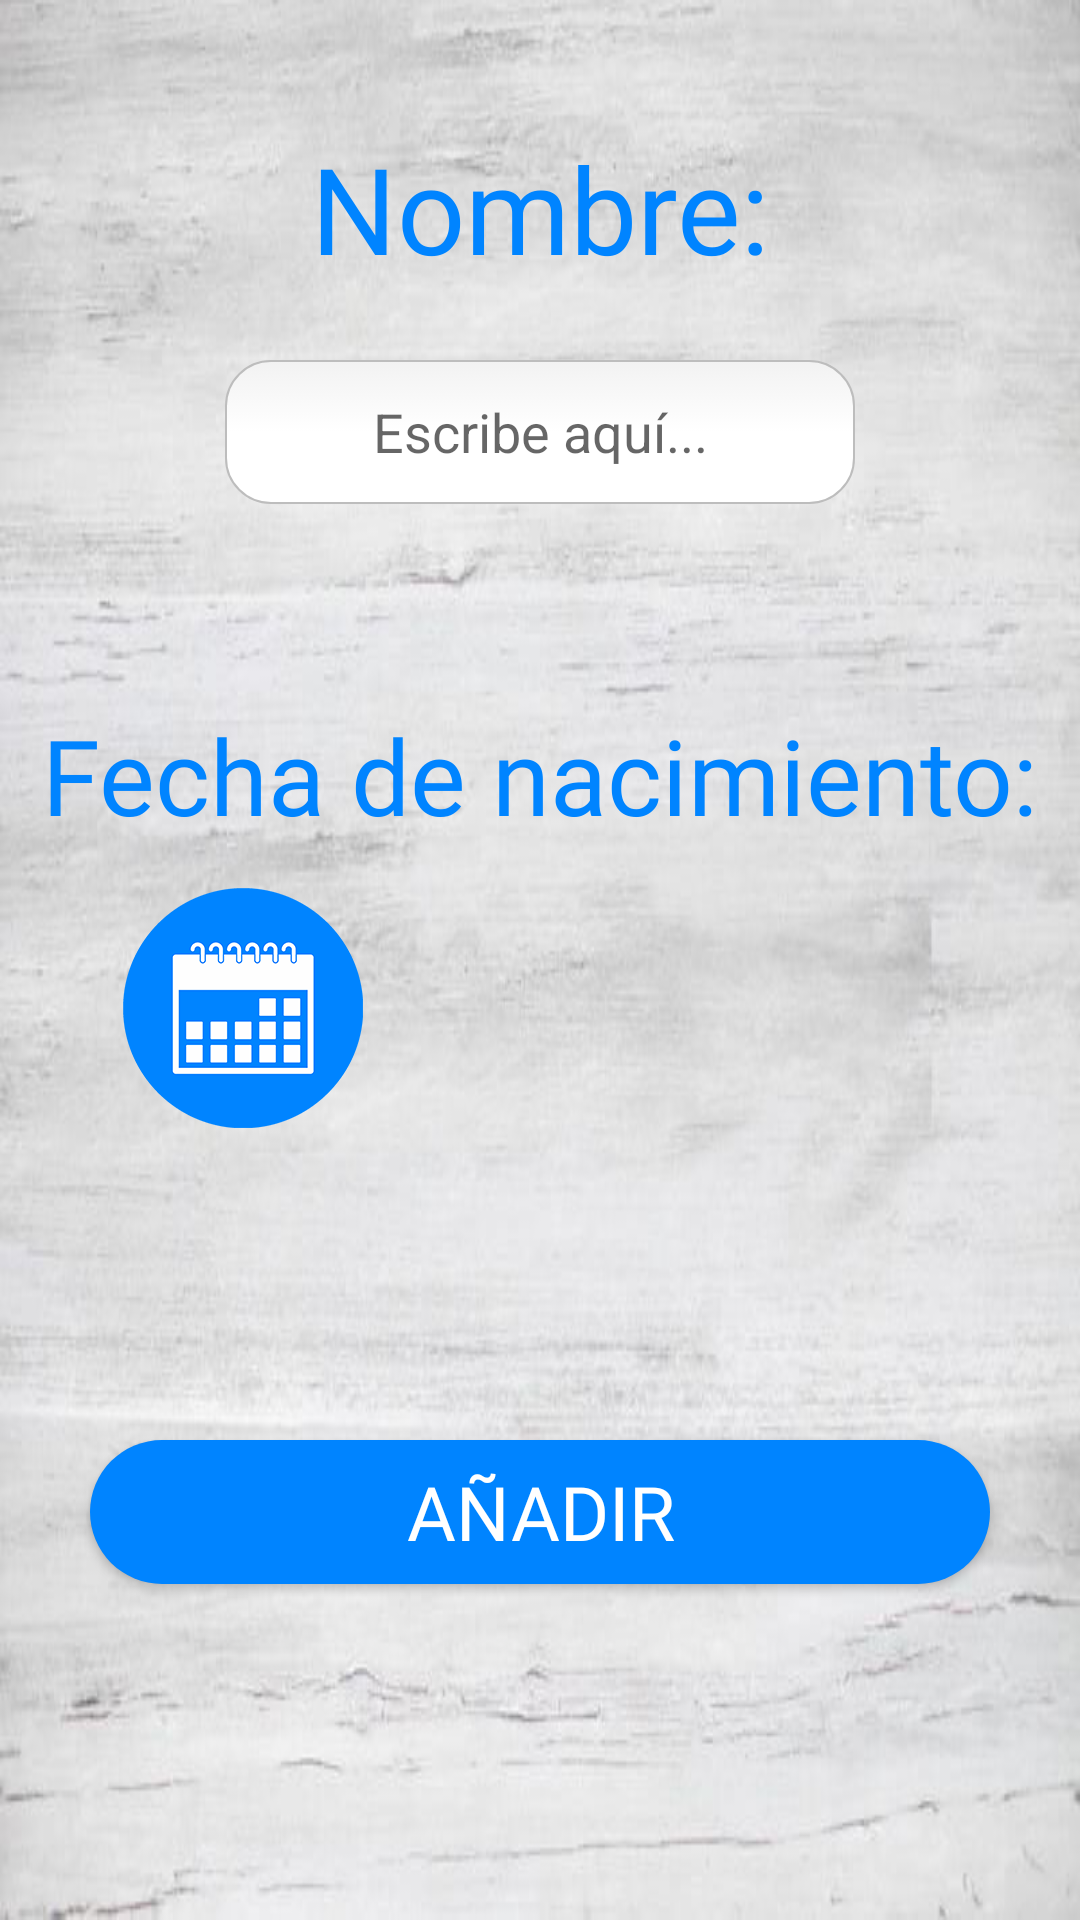

Icons on this 1080×1920 Android screen, each with the point to tap as (x,y):
calendar: (243,1008)
